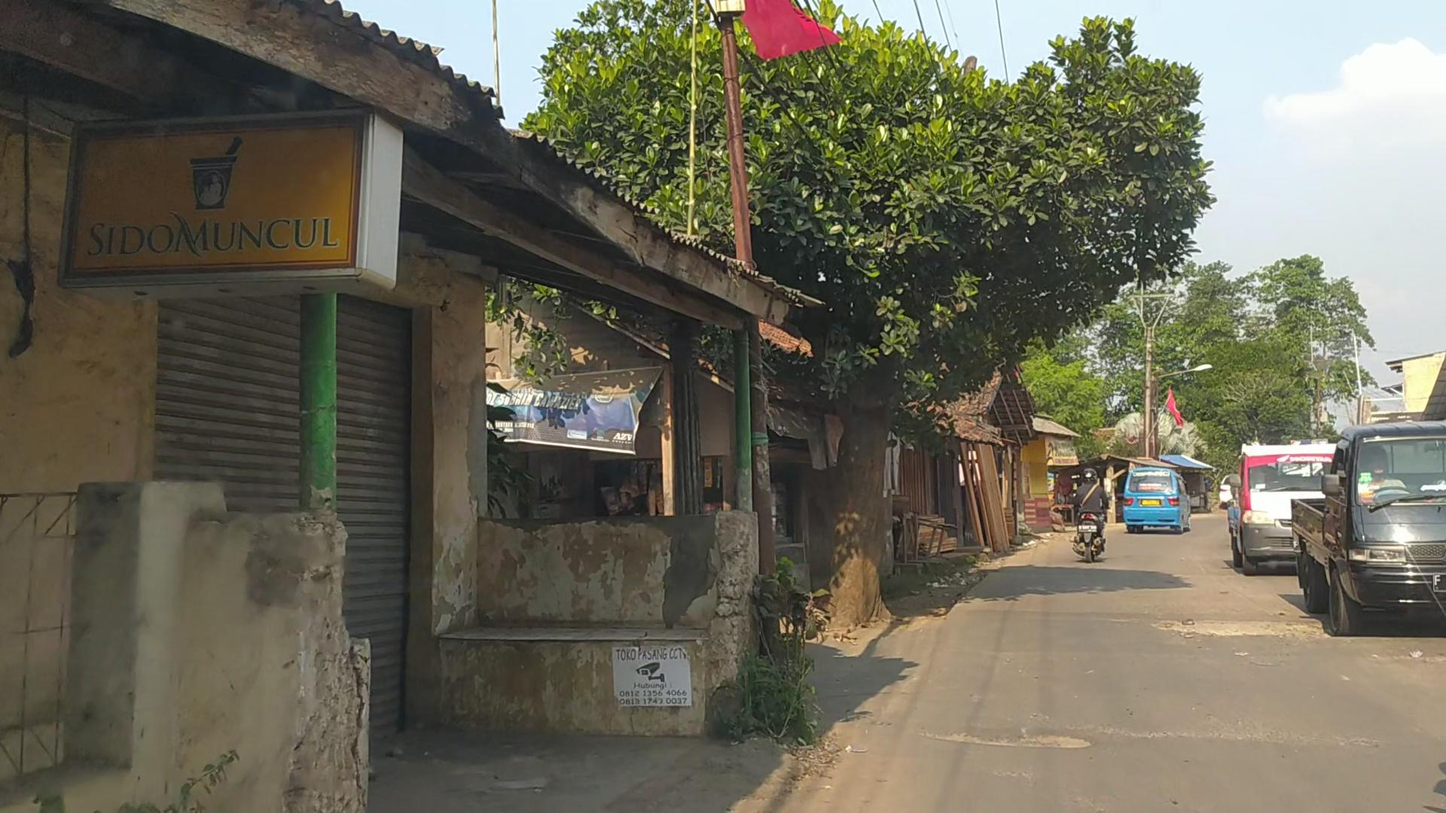pothole: (923, 728, 1096, 751), (1159, 620, 1321, 638)
